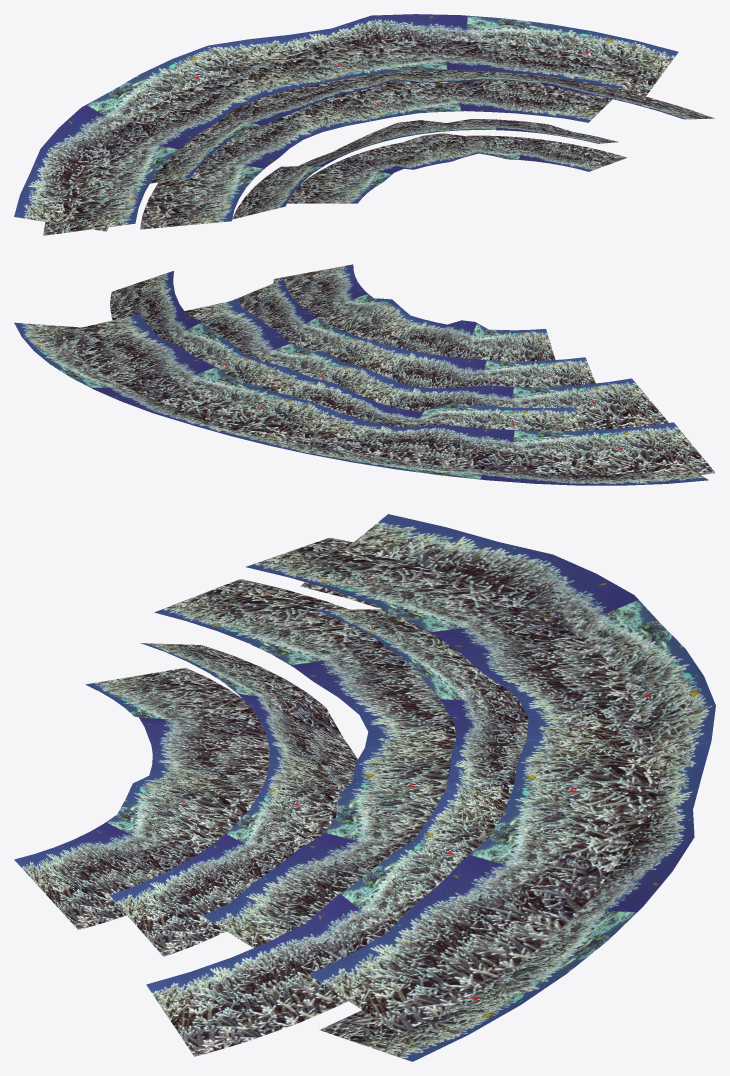
The model's file is Coral_C.fbx.
3 renders of one model, top to bottom at view 1: azimuth 30°, elevation 25°; view 2: azimuth 150°, elevation 25°; view 3: azimuth 270°, elevation 25°, orthographic. The views are drawn at different scales.
Visible parts, largest first — view 1: Coral_C; view 2: Coral_C; view 3: Coral_C.
Part boxes in pixels (x1,y1,x2,y2): Coral_C: (14,14,714,235); Coral_C: (14,264,715,485); Coral_C: (14,514,715,1061).
Bounding box in the file's own units: 7.33 × 0.4491 × 4.02.
1 material, 1 textured.
